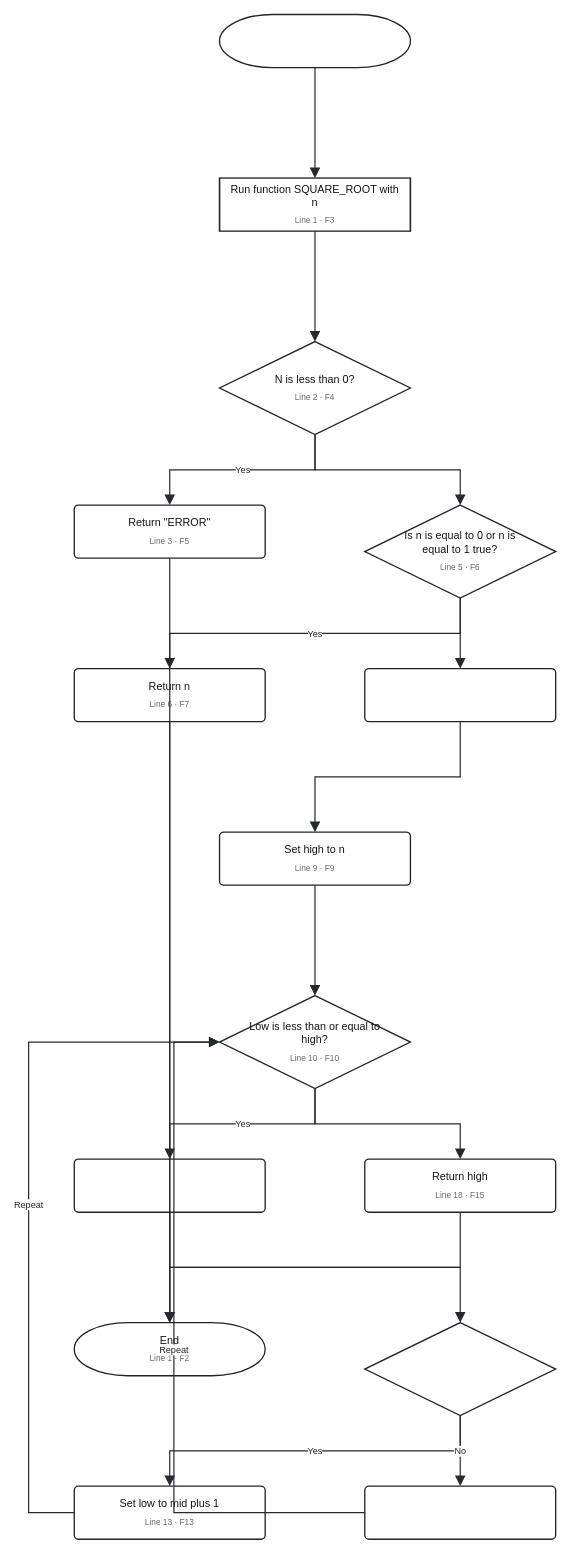
The diagram is 571 pixels wide and 1555 high, and some of its shapes have lost their labels. Here are the shapes that lost their labels. From the top down, the box of each, then its label:
(218, 13, 411, 68): Start Line 1 · F1
(364, 667, 556, 722): Set low to 0 Line 8 · F8
(73, 1158, 265, 1212): Set mid to low plus high divided by 2 Line 11 · F11
(364, 1322, 556, 1416): Mid multiplied by mid is less than or equal to n? Line 12 · F12
(364, 1485, 556, 1539): Set high to mid minus 1 Line 15 · F14
